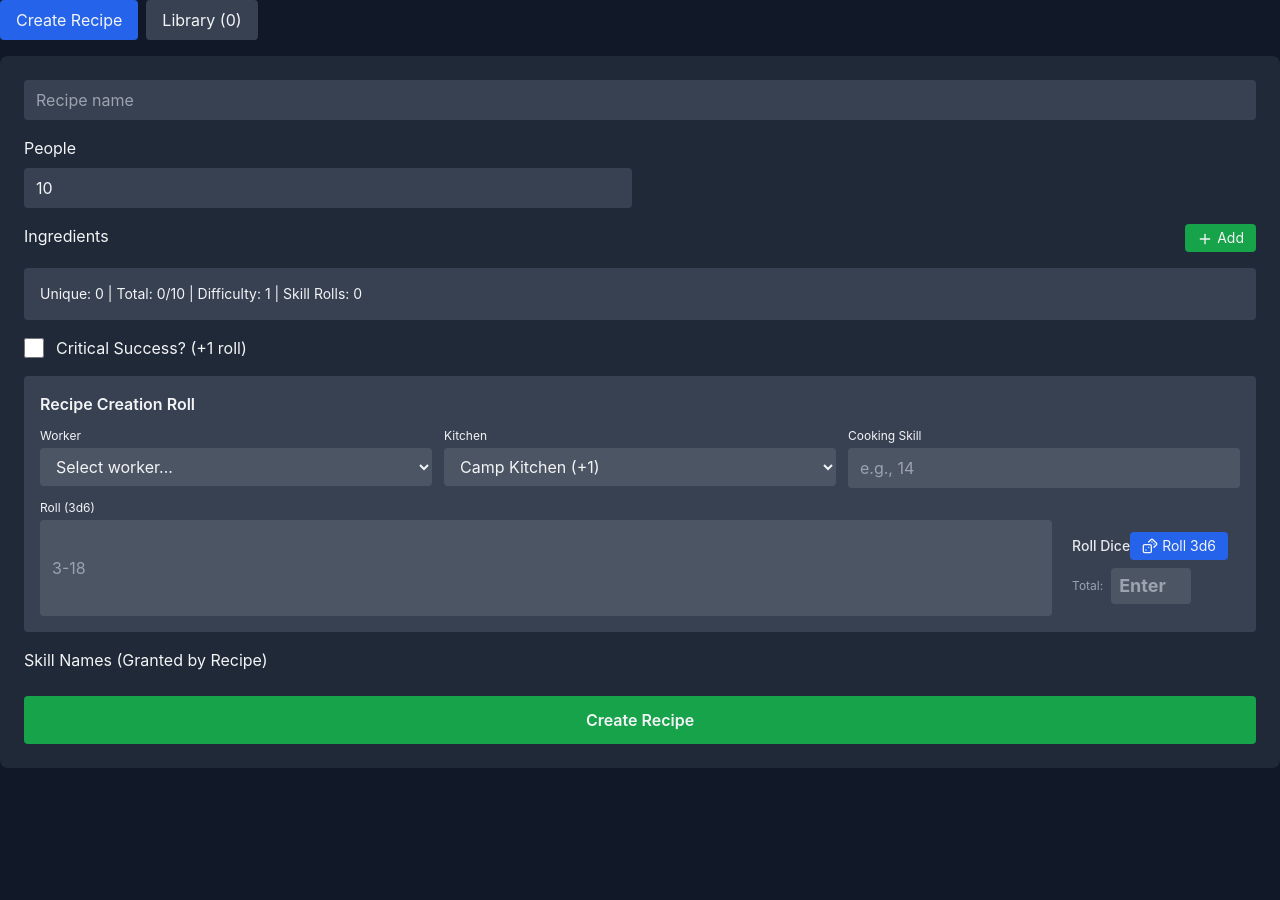
Scenario: CookingTab router › bases the preview on party holdings rather than character food inventories
Click the button "Add" at coordinates (1221, 238), box [1185,224,1256,252]
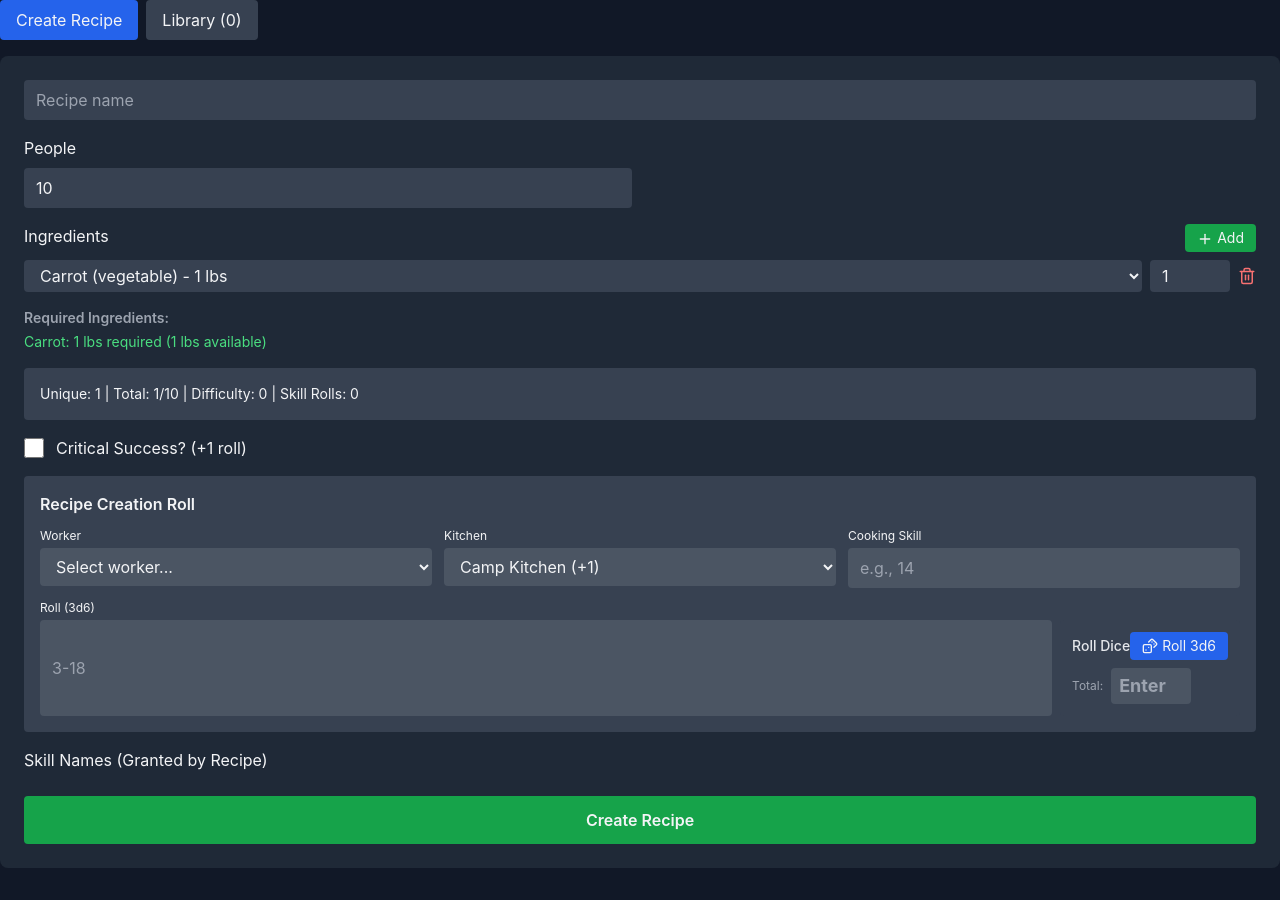
Replace the text in the 2nd number field with "2" at coordinates (1190, 276), box [1150,260,1230,292]
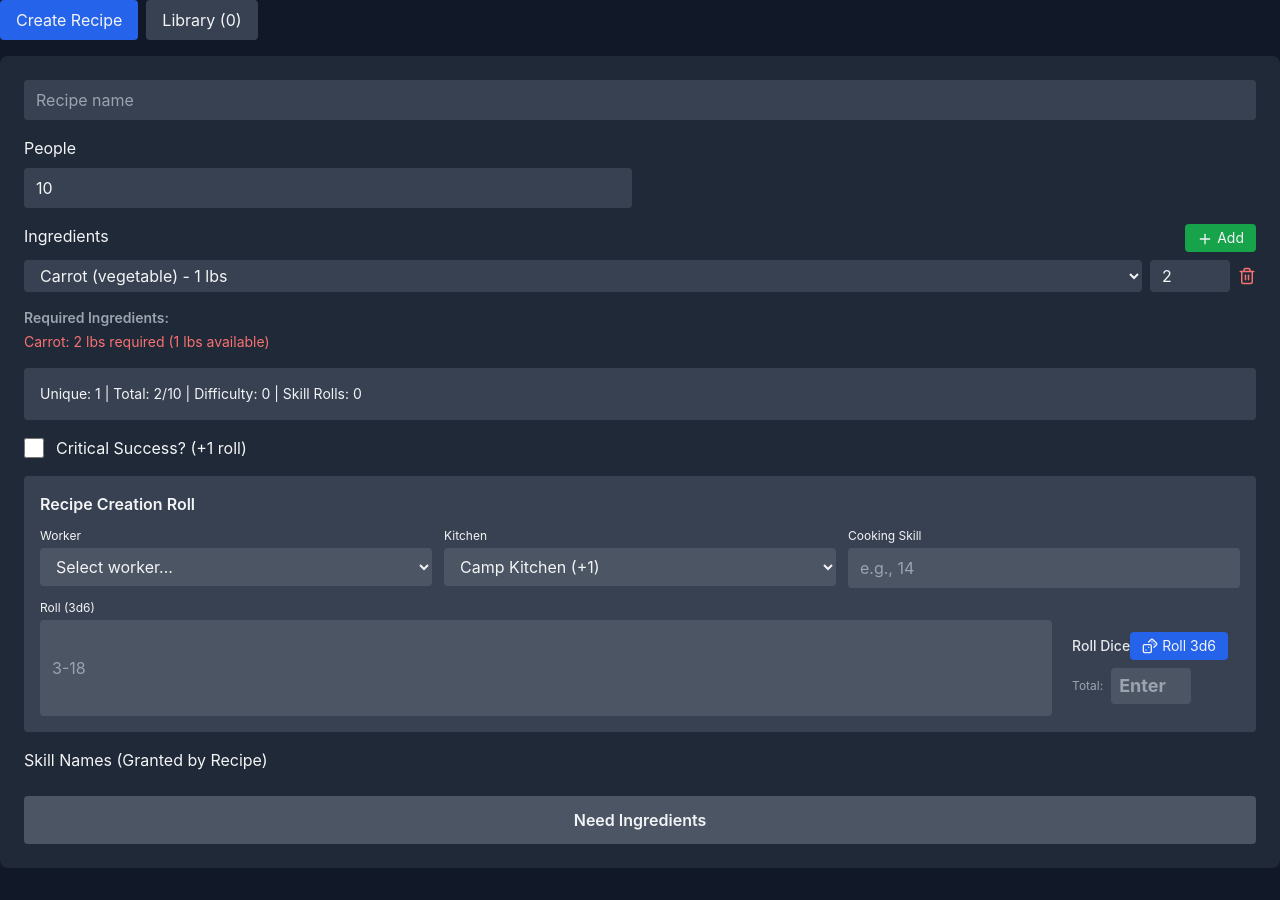
Now the button "Need Ingredients" is disabled, box [24,796,1256,844]
